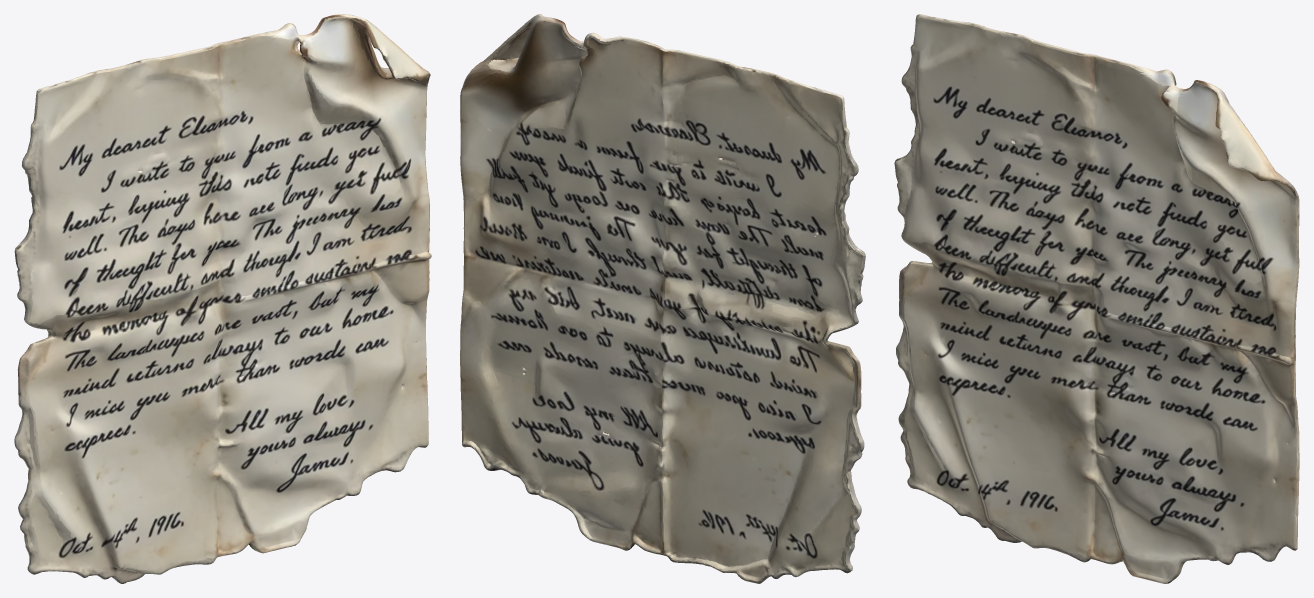
The model's file is torn-letter.glb.
3 renders of one model, left to right at view 1: azimuth 30°, elevation 25°; view 2: azimuth 150°, elevation 25°; view 3: azimuth 330°, elevation 25°, orthographic.
Parts seen in each view (by area): view 1: geometry_0; view 2: geometry_0; view 3: geometry_0.
Boxes of the visible parts, x1,y1,x2,y2 form: geometry_0: [14, 14, 431, 583]; geometry_0: [460, 14, 865, 583]; geometry_0: [894, 14, 1299, 583].
Bounding box in the file's own units: 0.21 × 0.2538 × 0.0221.
1 material, 1 textured.
